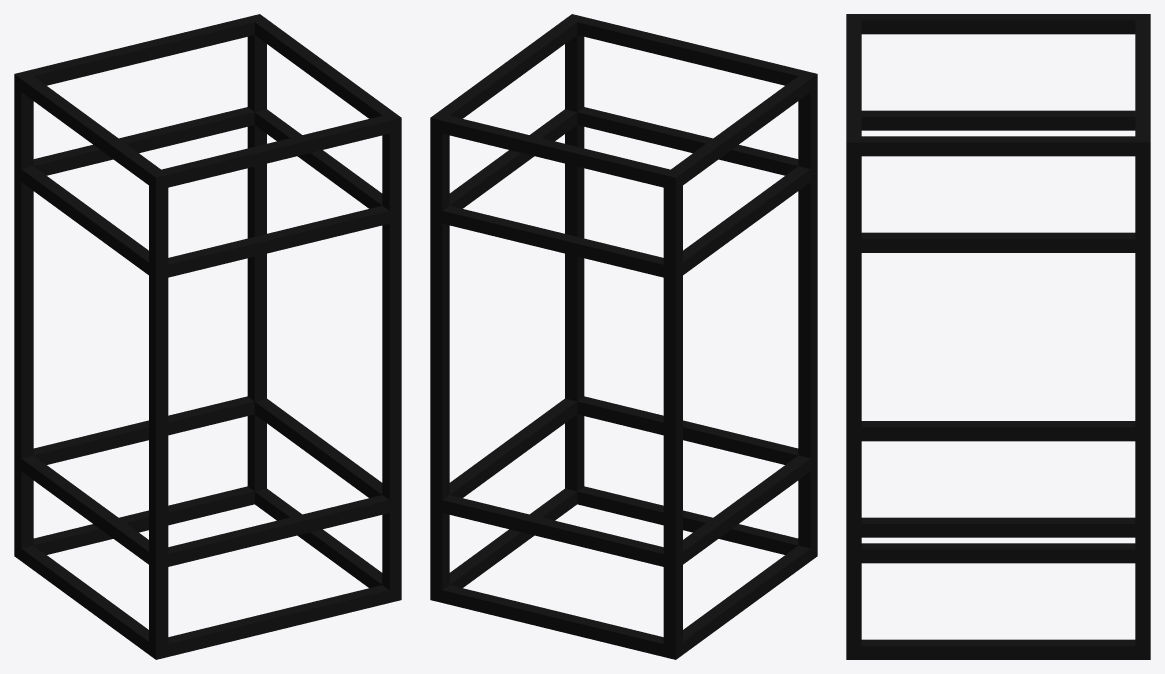
Rendered from Light.obj.
3 views of the same model, side by side, from view 1: azimuth 30°, elevation 25°; view 2: azimuth 150°, elevation 25°; view 3: azimuth 270°, elevation 25° (orthographic). The views are drawn at different scales.
Size of the model in its own units: 4 by 7.5 by 4.
1 material, 1 textured.
